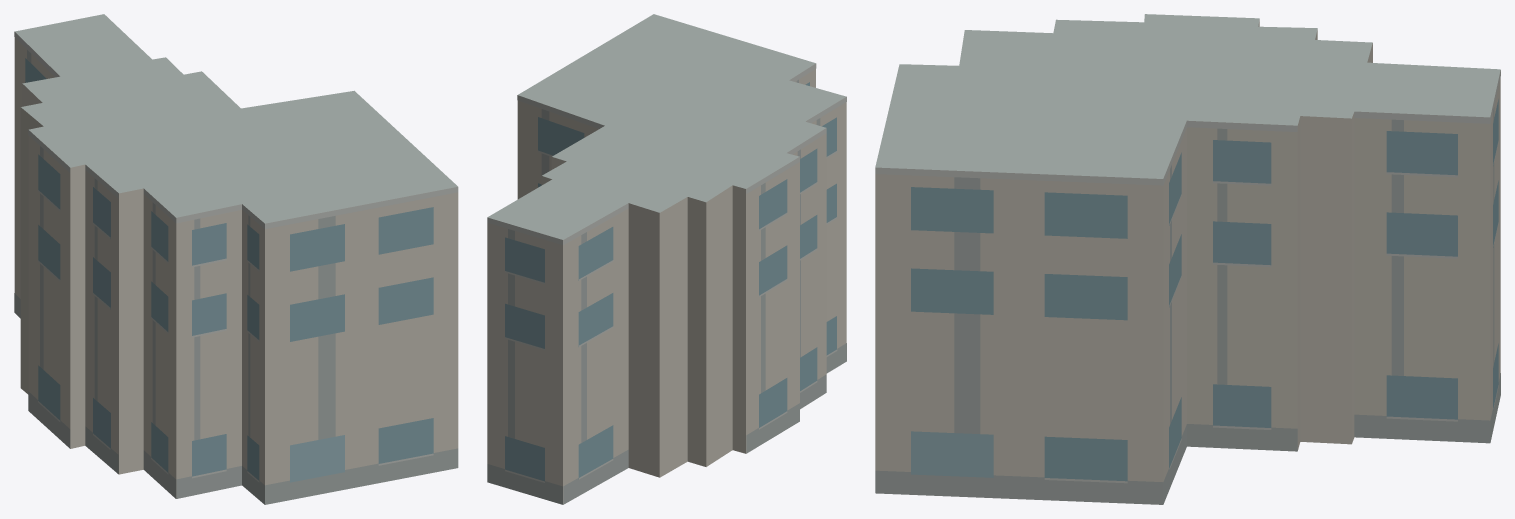
Rendered from residential-1a6109f8-5995-4356-85eb-5e974348bd1b.glb.
3 renders of one model, left to right at view 1: azimuth 30°, elevation 25°; view 2: azimuth 150°, elevation 25°; view 3: azimuth 270°, elevation 25°, orthographic. The views are drawn at different scales.
Parts seen in each view (by area): view 1: residential-1a6109f8-5995-4356-85eb-5e974348bd1b.tmp; view 2: residential-1a6109f8-5995-4356-85eb-5e974348bd1b.tmp; view 3: residential-1a6109f8-5995-4356-85eb-5e974348bd1b.tmp.
Boxes of the visible parts, x1,y1,x2,y2 form: residential-1a6109f8-5995-4356-85eb-5e974348bd1b.tmp: (14, 14, 458, 504); residential-1a6109f8-5995-4356-85eb-5e974348bd1b.tmp: (487, 14, 846, 504); residential-1a6109f8-5995-4356-85eb-5e974348bd1b.tmp: (875, 14, 1500, 504).
Size of the model in its own units: 13.26 by 12.2 by 21.24.
